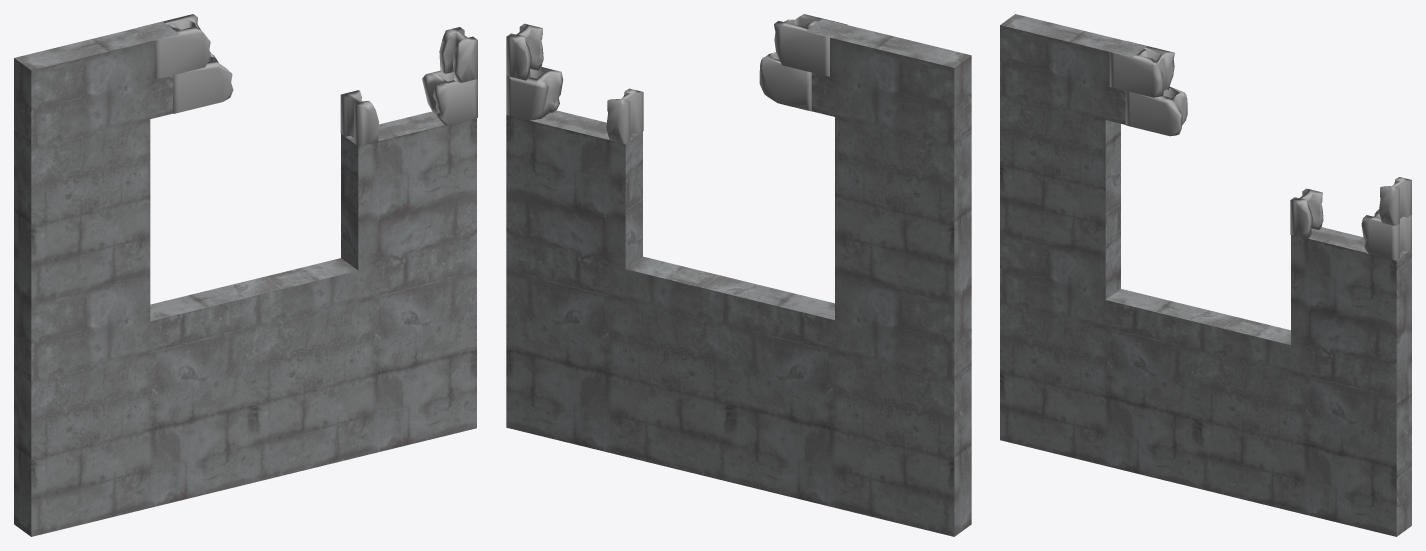
File: wall_1window_01_Broken_01.fbx
3 views of the same model, side by side, from view 1: azimuth 30°, elevation 25°; view 2: azimuth 150°, elevation 25°; view 3: azimuth 330°, elevation 25° (orthographic). The views are drawn at different scales.
Visible parts, largest first — view 1: wall_1window_01_Broken_01; view 2: wall_1window_01_Broken_01; view 3: wall_1window_01_Broken_01.
Boxes of the visible parts, x1,y1,x2,y2 form: wall_1window_01_Broken_01: (14,14,477,536); wall_1window_01_Broken_01: (506,14,971,536); wall_1window_01_Broken_01: (1000,14,1411,536).
Bounding box in the file's own units: 300 × 300 × 21.25.
2 materials, 1 textured.
